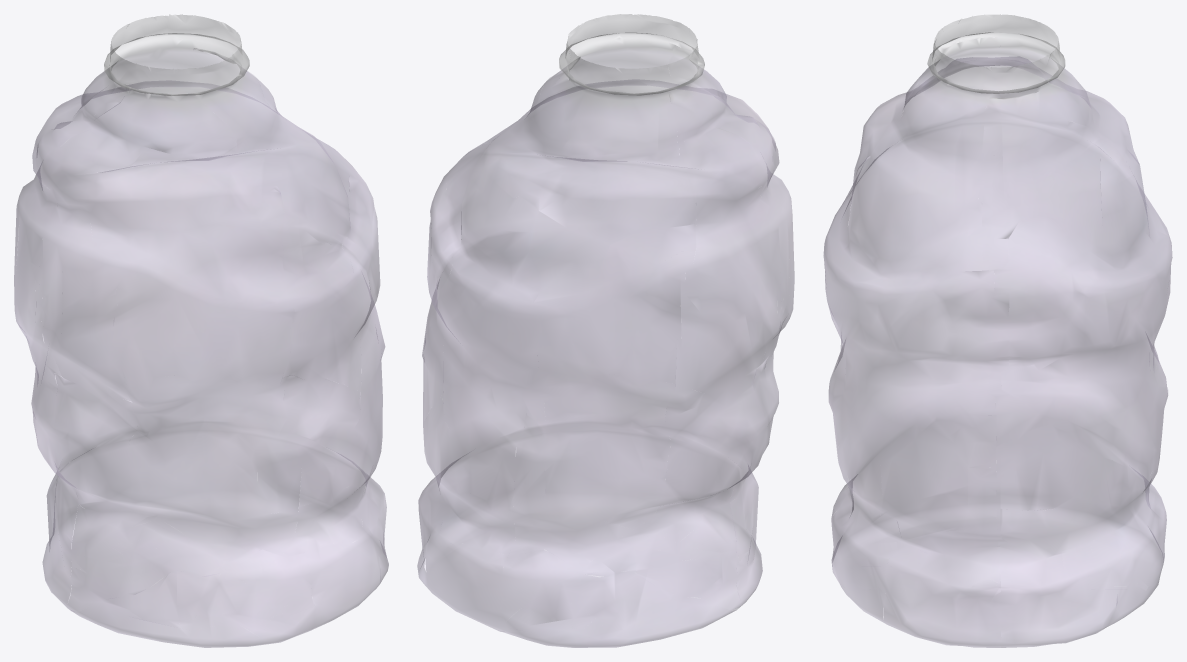
The model's file is 07_16_nj_et_prp_l_trs.glb.
3 views of the same model, side by side, from view 1: azimuth 30°, elevation 25°; view 2: azimuth 150°, elevation 25°; view 3: azimuth 270°, elevation 25° (orthographic). The views are drawn at different scales.
Visible parts, largest first — view 1: prp; view 2: prp; view 3: prp.
Part boxes in pixels (x1,y1,x2,y2): prp: (14, 14, 388, 647); prp: (417, 14, 794, 647); prp: (823, 14, 1172, 647).
Size of the model in its own units: 0.1996 by 0.31 by 0.1872.
Materials: 1 (1 with a texture image).
